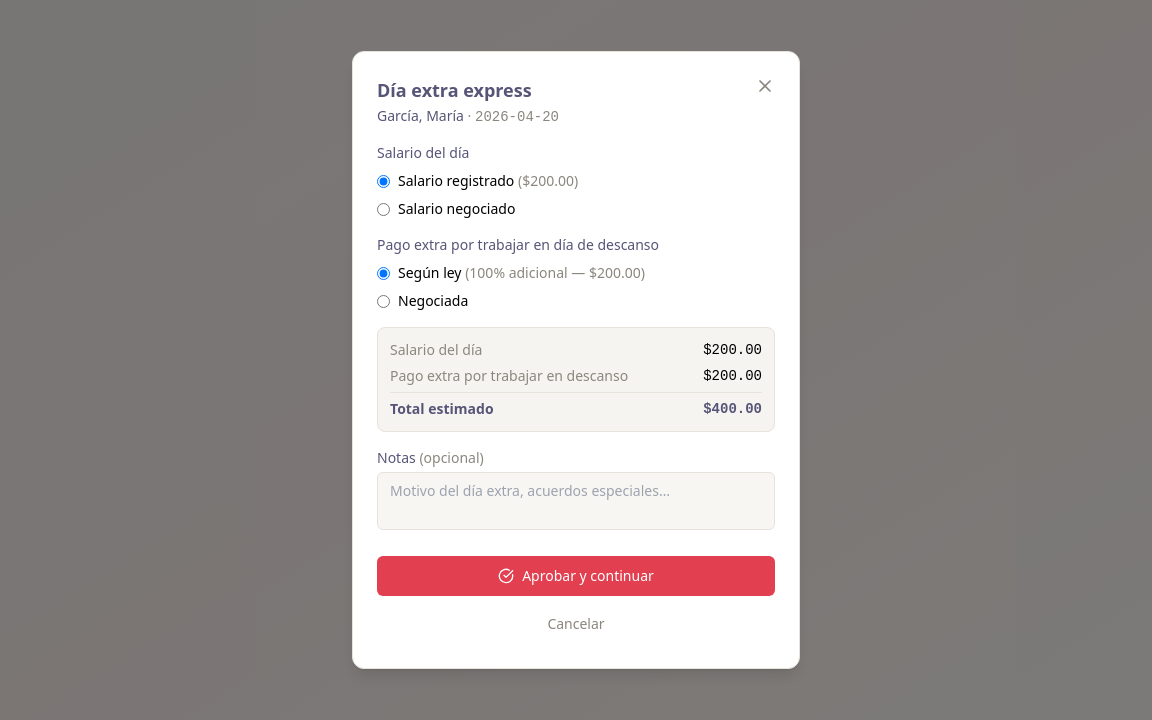
ExtraDayNegotiationDialog — salary modes › shows salary custom inputs when "Salario negociado" radio is selected
This screenshot has width=1152, height=720.
Step 1. Click the text "Salario negociado" → (457, 209), box [398, 199, 515, 219]
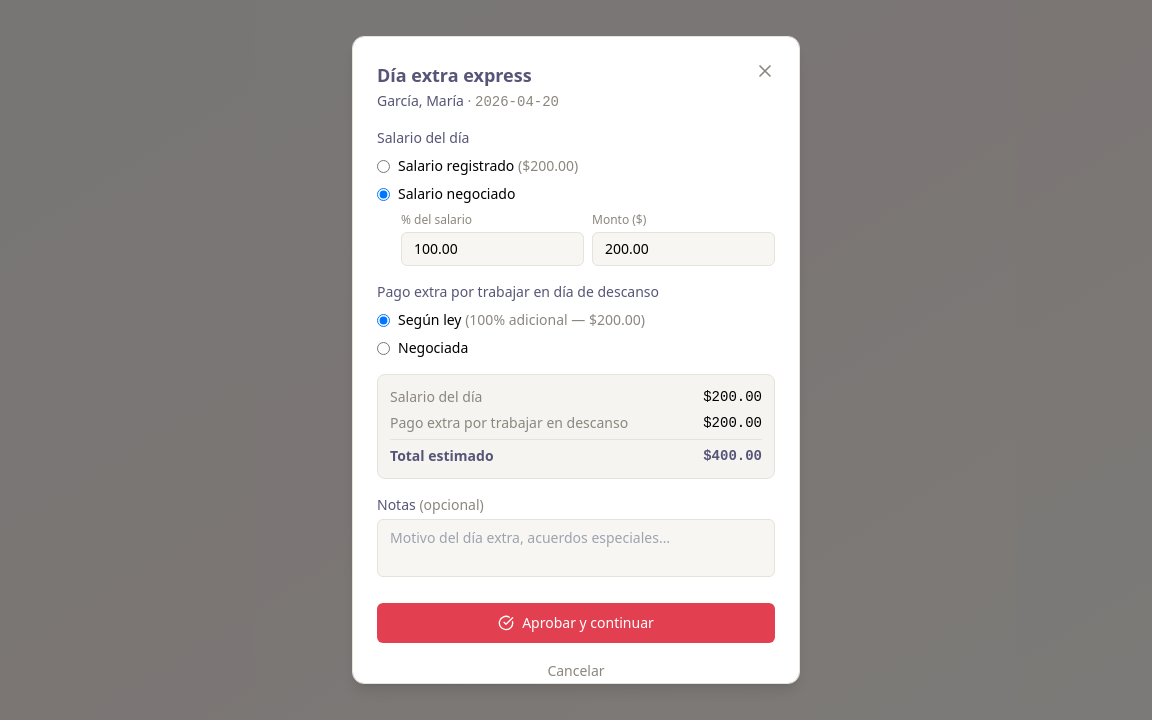
Expected: the text "% del salario" is shown, [401, 211, 472, 228]
Expected: the text "Monto ($)" is shown, [592, 211, 646, 228]
